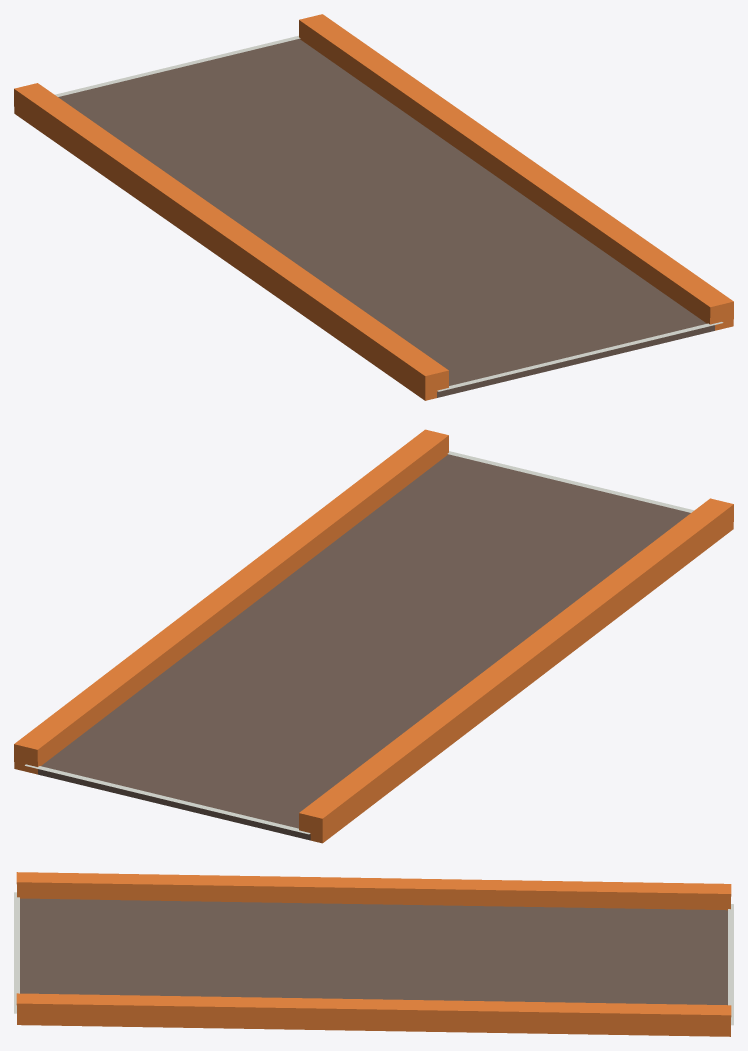
File: SM_MP_Film_B_3_0.fbx
The picture shows the model from 3 angles, top to bottom: view 1: azimuth 30°, elevation 25°; view 2: azimuth 150°, elevation 25°; view 3: azimuth 270°, elevation 25°; orthographic projection. The views are drawn at different scales.
Parts seen in each view (by area): view 1: SM_MP_Film_B_3_0; view 2: SM_MP_Film_B_3_0; view 3: SM_MP_Film_B_3_0.
Part boxes in pixels (x1,y1,x2,y2): SM_MP_Film_B_3_0: (14,14,733,400); SM_MP_Film_B_3_0: (14,429,733,843); SM_MP_Film_B_3_0: (14,872,733,1036).
Size of what is drawn, in the model's own units: 260 by 605 by 31.46.
